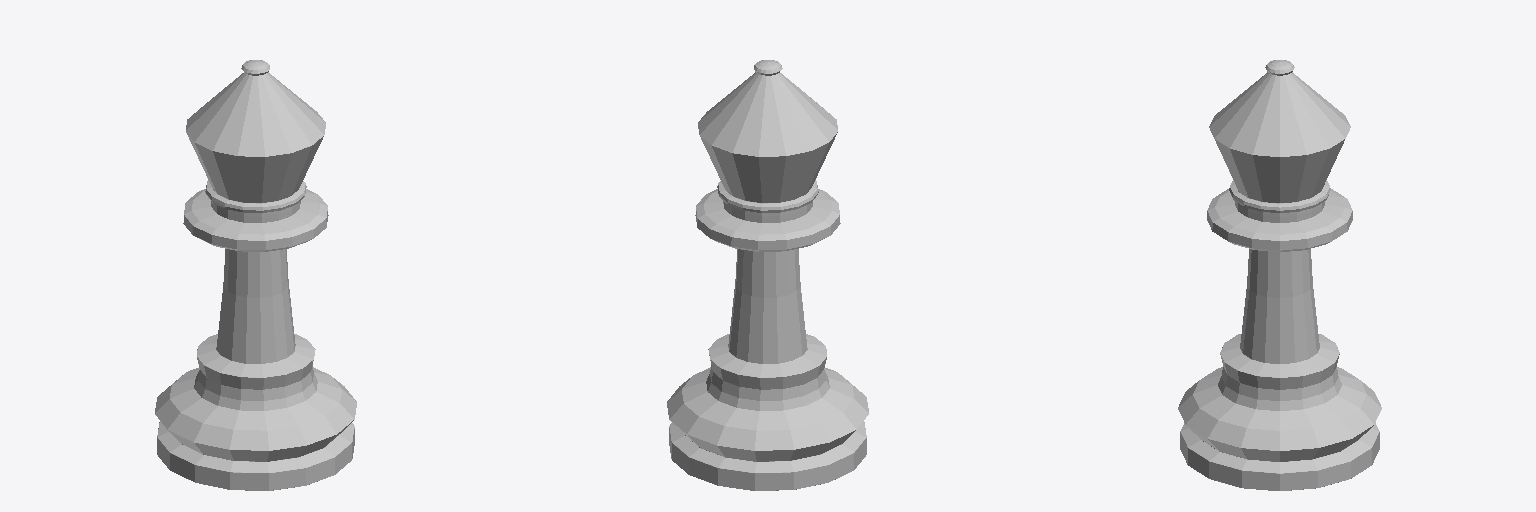
Rendered from chess_bishop.obj.
The picture shows the model from 3 angles: view 1: azimuth 30°, elevation 25°; view 2: azimuth 150°, elevation 25°; view 3: azimuth 270°, elevation 25°; orthographic projection.
Parts seen in each view (by area): view 1: Mesh.028_Sphere46; view 2: Mesh.028_Sphere46; view 3: Mesh.028_Sphere46.
Boxes of the visible parts, x1,y1,x2,y2 form: Mesh.028_Sphere46: [155, 60, 356, 490]; Mesh.028_Sphere46: [667, 60, 868, 490]; Mesh.028_Sphere46: [1178, 60, 1381, 490].
Size of the model in its own units: 6.94 by 14.5 by 6.94.